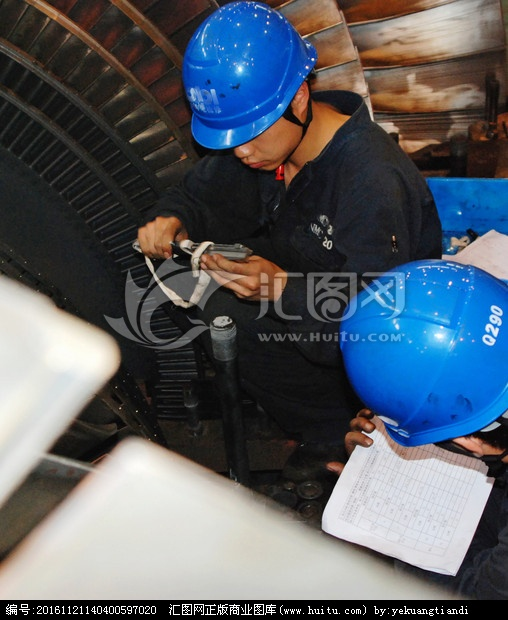blue: (327, 253, 508, 476), (179, 7, 313, 171)
